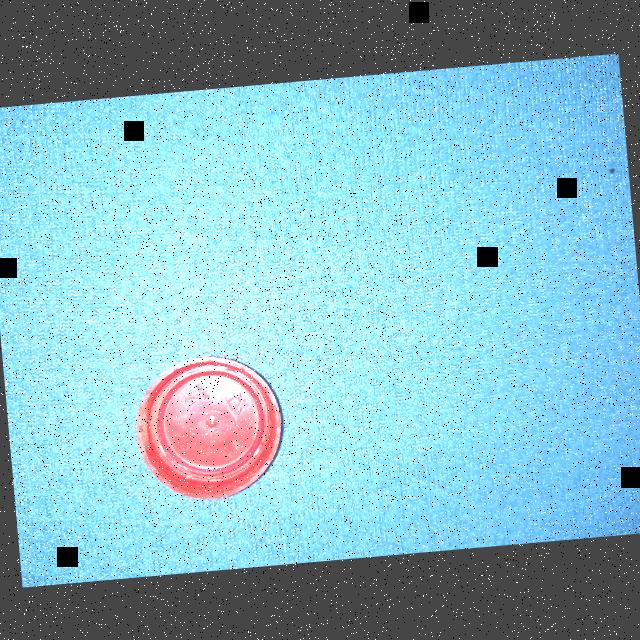plastic_bottle_cap: (134, 351, 288, 505)
